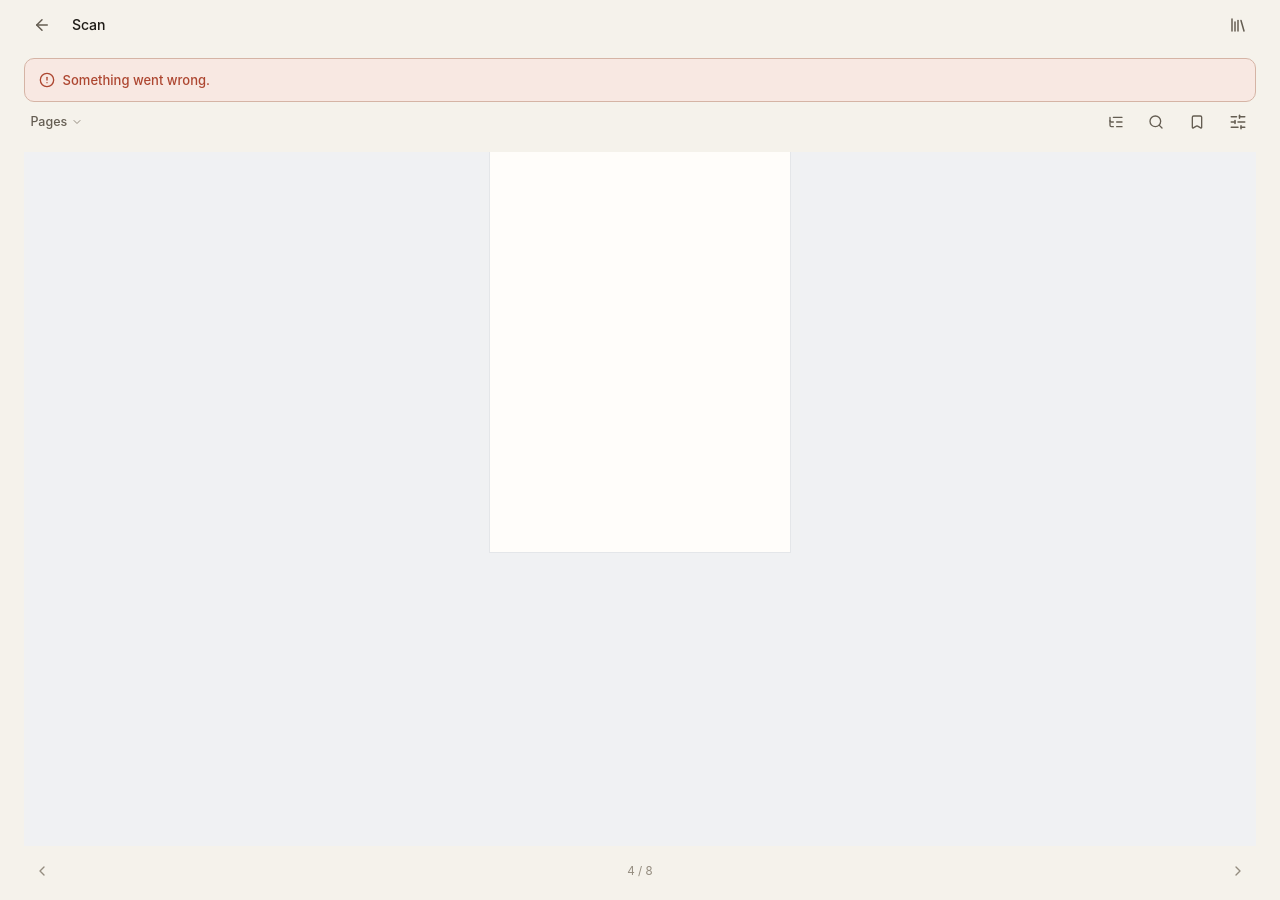
it: pdf reader › drops a render error after a later page paints and ignores a superseded failure
This screenshot has width=1280, height=900.
(page scrolled)
Expected: the message reads "Something went wrong.", 63,72 -> 210,88
Click the button named "Next page" at (1238, 871), box 1220,853 -> 1256,889
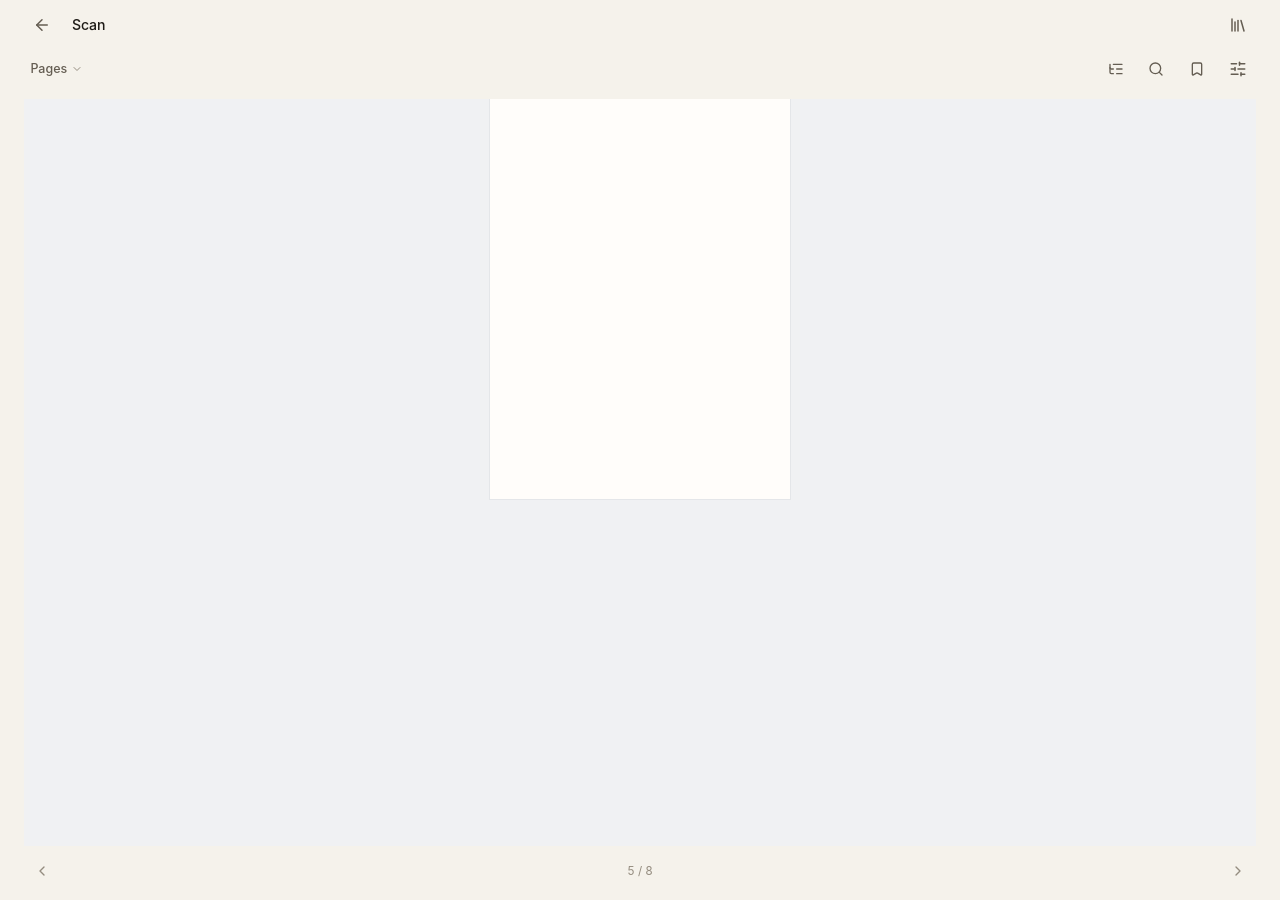
Expected: the message "Something went wrong." is gone
